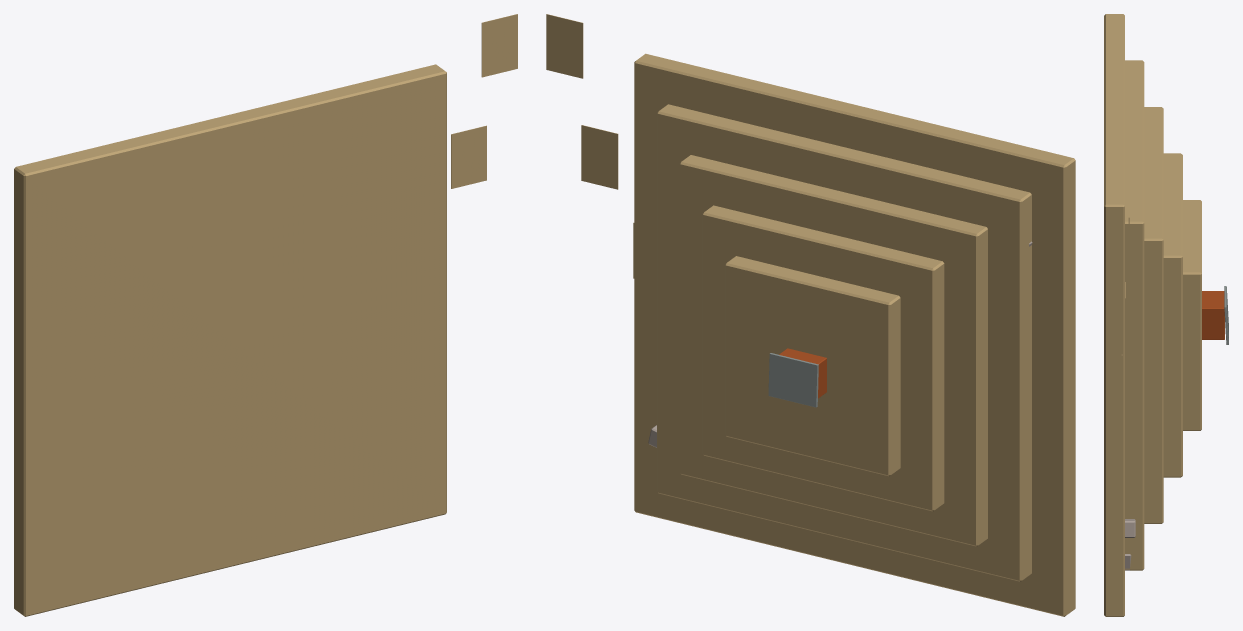
Rendered from pf_red_canyon_outpost.glb.
The picture shows the model from 3 angles, left to right: view 1: azimuth 30°, elevation 25°; view 2: azimuth 150°, elevation 25°; view 3: azimuth 270°, elevation 25°; orthographic projection. The views are drawn at different scales.
Visible parts, largest first — view 1: mesa_layer, sendero_4, sendero_3; view 2: mesa_layer, mesa_layer.001, mesa_layer.002, mesa_layer.003, mesa_layer.004, caseta_roof, sendero_3, sendero_4; view 3: mesa_layer, mesa_layer.001, mesa_layer.002, mesa_layer.003, mesa_layer.004, caseta_wall, caseta_roof, rock_20_-16_3.
Part boxes in pixels (box(x1,y1,x2,y2)): mesa_layer: box(14, 64, 446, 616); sendero_4: box(481, 14, 517, 77); sendero_3: box(451, 125, 486, 188); mesa_layer: box(634, 53, 1075, 616); mesa_layer.001: box(657, 104, 1031, 581); mesa_layer.002: box(679, 155, 987, 546); mesa_layer.003: box(702, 205, 944, 511); mesa_layer.004: box(725, 256, 900, 476); caseta_roof: box(768, 353, 818, 407); sendero_3: box(581, 125, 618, 189); sendero_4: box(546, 14, 583, 78); mesa_layer: box(1104, 14, 1124, 616); mesa_layer.001: box(1125, 60, 1144, 570); mesa_layer.002: box(1144, 107, 1163, 523); mesa_layer.003: box(1163, 153, 1182, 477); mesa_layer.004: box(1183, 200, 1201, 430); caseta_wall: box(1202, 291, 1224, 339); caseta_roof: box(1224, 286, 1228, 344); rock_20_-16_3: box(1125, 519, 1135, 537).
Bounding box in the file's own units: 62.2 × 55.2 × 14.26.
